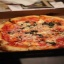olives: (40, 20, 59, 27), (42, 40, 58, 46), (27, 28, 38, 35)
pizza: (1, 15, 64, 49)
